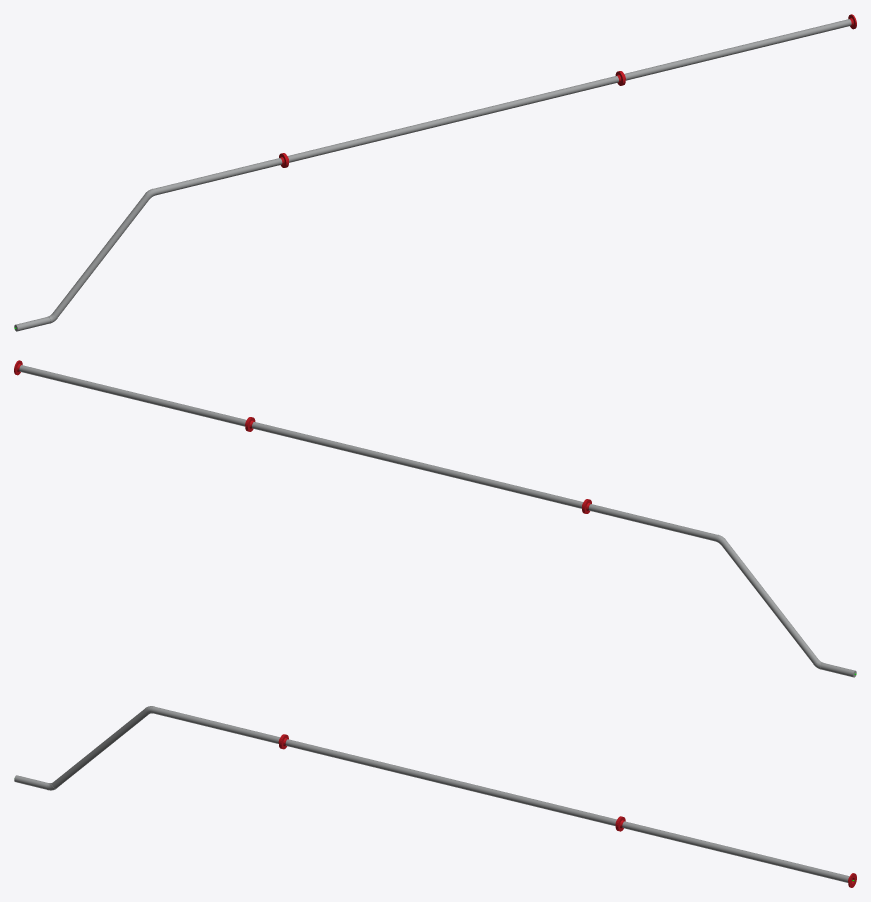
Rendered from Phase04b2.fbx.
The picture shows the model from 3 angles, top to bottom: view 1: azimuth 30°, elevation 25°; view 2: azimuth 150°, elevation 25°; view 3: azimuth 330°, elevation 25°; orthographic projection.
Visible parts, largest first — view 1: Типы трубопроводов:Труба 108х4-12х18н10т:1338206, Типы трубопроводов:Труба 108х4-12х18н10т:1338208, Типы трубопроводов:Труба 108х4-12х18н10т:1342441, Типы трубопроводов:Труба 108х4-12х18н10т:1338218; view 2: Типы трубопроводов:Труба 108х4-12х18н10т:1338206, Типы трубопроводов:Труба 108х4-12х18н10т:1338208, Типы трубопроводов:Труба 108х4-12х18н10т:1342441, Типы трубопроводов:Труба 108х4-12х18н10т:1338218; view 3: Типы трубопроводов:Труба 108х4-12х18н10т:1338206, Типы трубопроводов:Труба 108х4-12х18н10т:1338208, Типы трубопроводов:Труба 108х4-12х18н10т:1338218, Типы трубопроводов:Труба 108х4-12х18н10т:1342441.
Part boxes in pixels (x1,y1,x2,y2): Типы трубопроводов:Труба 108х4-12х18н10т:1338206: (287, 76, 618, 162); Типы трубопроводов:Труба 108х4-12х18н10т:1338208: (624, 19, 851, 80); Типы трубопроводов:Труба 108х4-12х18н10т:1342441: (52, 194, 149, 317); Типы трубопроводов:Труба 108х4-12х18н10т:1338218: (153, 158, 282, 195); Типы трубопроводов:Труба 108х4-12х18н10т:1338206: (252, 422, 583, 508); Типы трубопроводов:Труба 108х4-12х18н10т:1338208: (19, 365, 246, 426); Типы трубопроводов:Труба 108х4-12х18н10т:1342441: (721, 540, 818, 663); Типы трубопроводов:Труба 108х4-12х18н10т:1338218: (588, 504, 717, 541); Типы трубопроводов:Труба 108х4-12х18н10т:1338206: (285, 739, 616, 826); Типы трубопроводов:Труба 108х4-12х18н10т:1338208: (622, 821, 849, 882); Типы трубопроводов:Труба 108х4-12х18н10т:1338218: (151, 706, 280, 743); Типы трубопроводов:Труба 108х4-12х18н10т:1342441: (52, 709, 148, 788).
Bounding box in the file's own units: 14965 × 230 × 1910.
